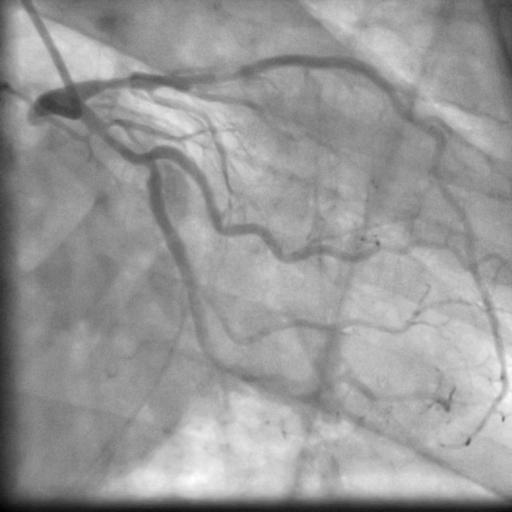Stenosis: (195, 68, 255, 85)
